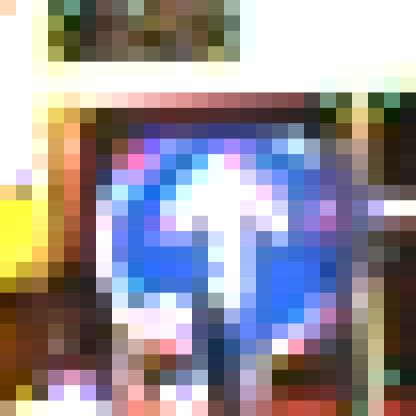AheadOnly: (81, 93, 337, 340)
